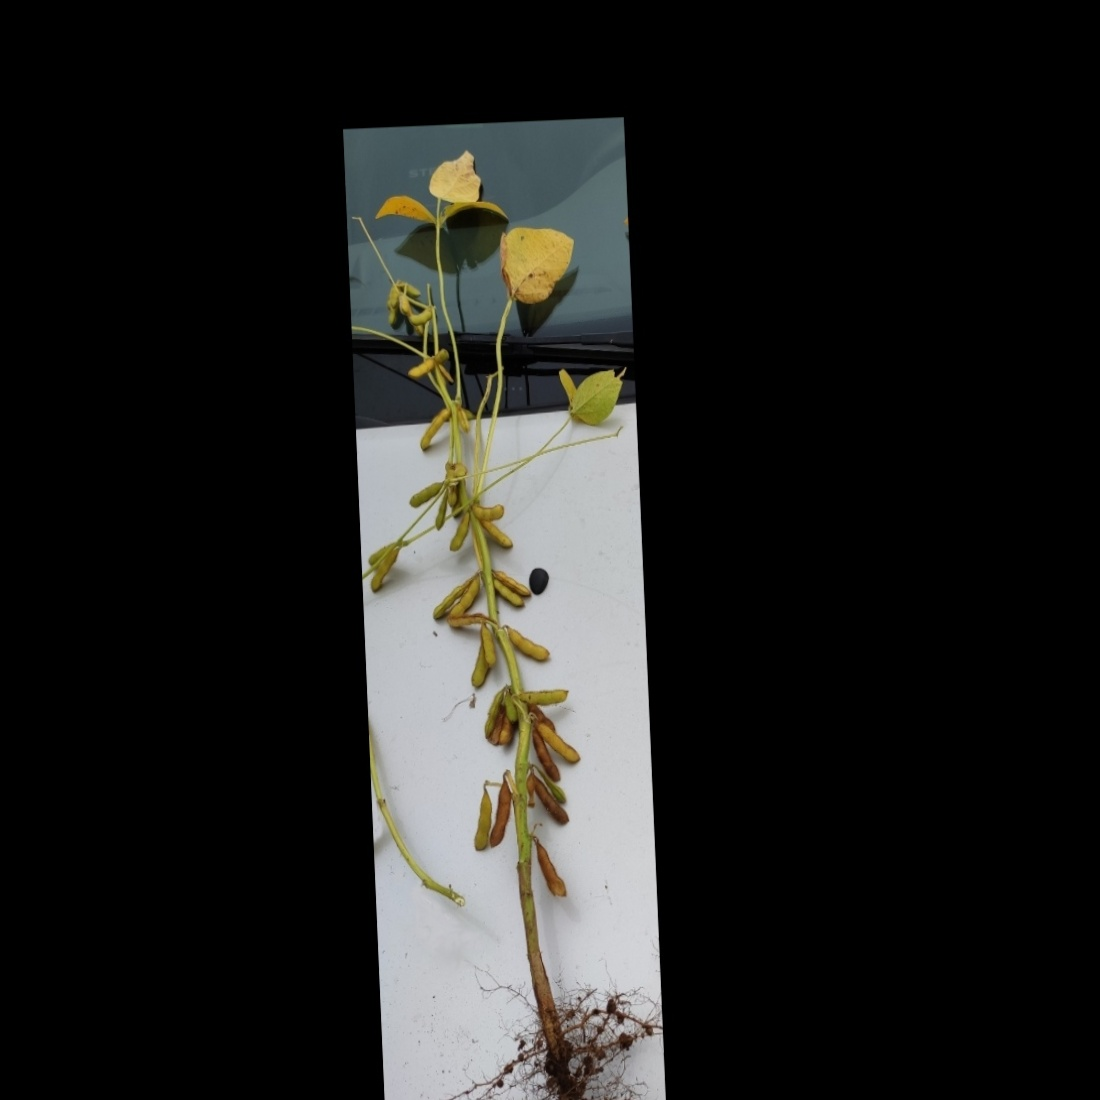pod: (523, 766, 570, 828), (528, 832, 569, 904), (482, 771, 517, 852), (425, 574, 480, 621), (467, 777, 496, 856), (537, 716, 581, 766), (367, 544, 408, 594), (530, 728, 563, 787), (509, 624, 552, 667), (445, 572, 482, 622), (418, 403, 453, 451), (488, 565, 536, 599), (514, 682, 574, 708), (487, 575, 527, 612), (482, 512, 515, 554), (443, 507, 472, 554), (475, 615, 500, 669), (405, 479, 445, 510), (470, 498, 509, 523), (403, 358, 437, 381), (406, 307, 433, 326)
soy: (354, 204, 653, 1100)
